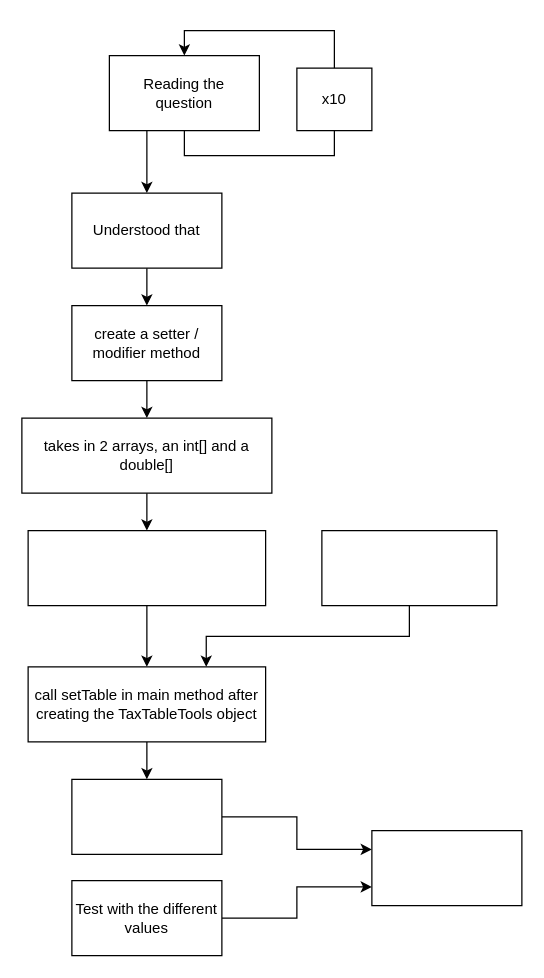
Image size: 544x978. Some labels were removed from this diagram. Each missing label, with the centre of its shape:
"create new salary and taxtable arrays in main method" belongs at [409,567].
"sets the reference of variable to new array from old array" belongs at [146,567].
"success" belongs at [446,867].
"Test with the same values" belongs at [146,816].
